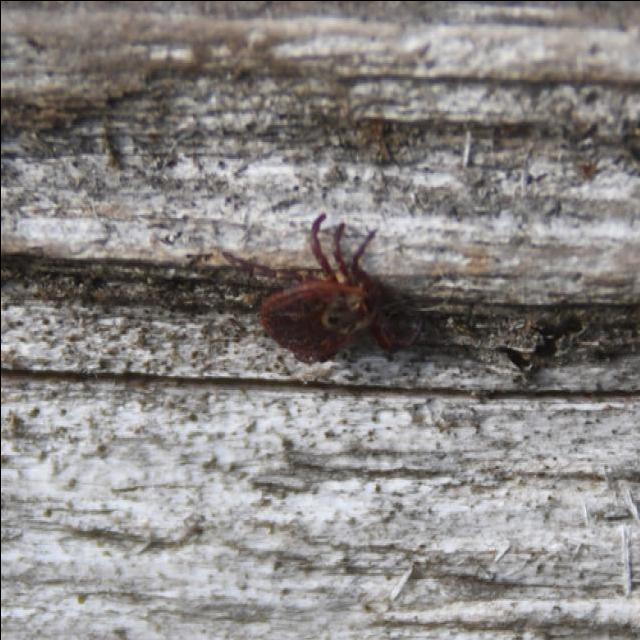Dermacentor Reticulatus-F: (220, 214, 398, 363)
